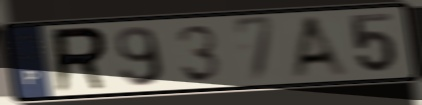3: (174, 23, 224, 83)
5: (345, 13, 400, 76)
7: (231, 13, 276, 88)
9: (112, 24, 167, 88)
A: (288, 13, 355, 79)
R: (50, 24, 112, 96)
